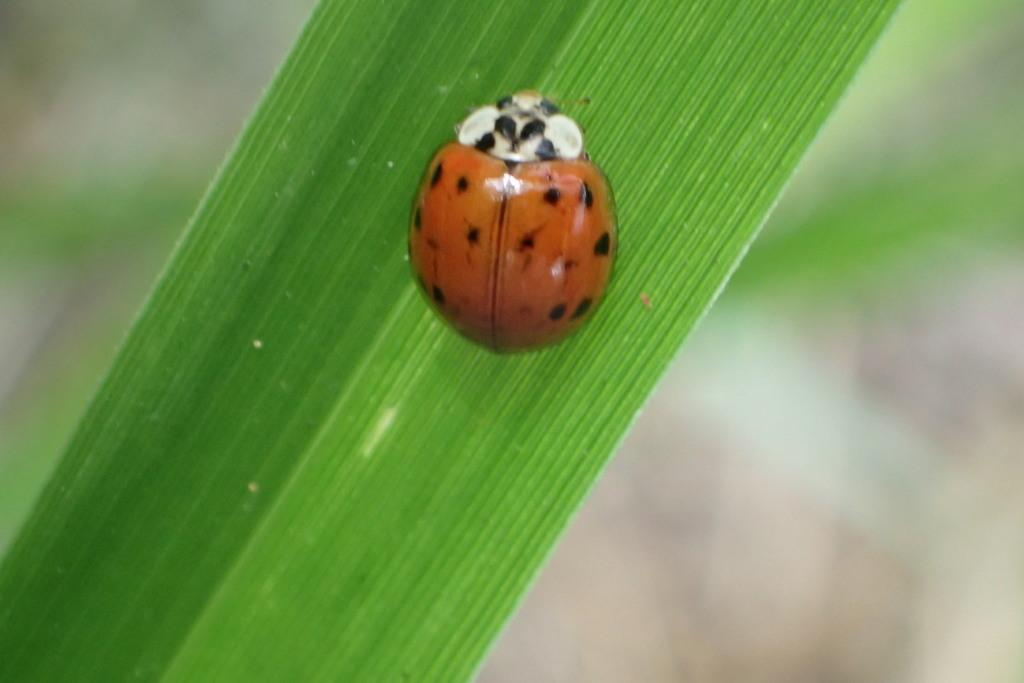ladybug: (403, 81, 627, 361)
